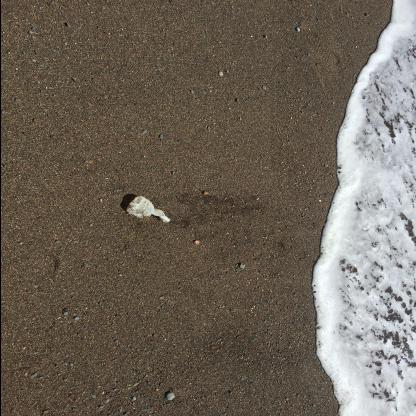plastik: (126, 196, 170, 222)
